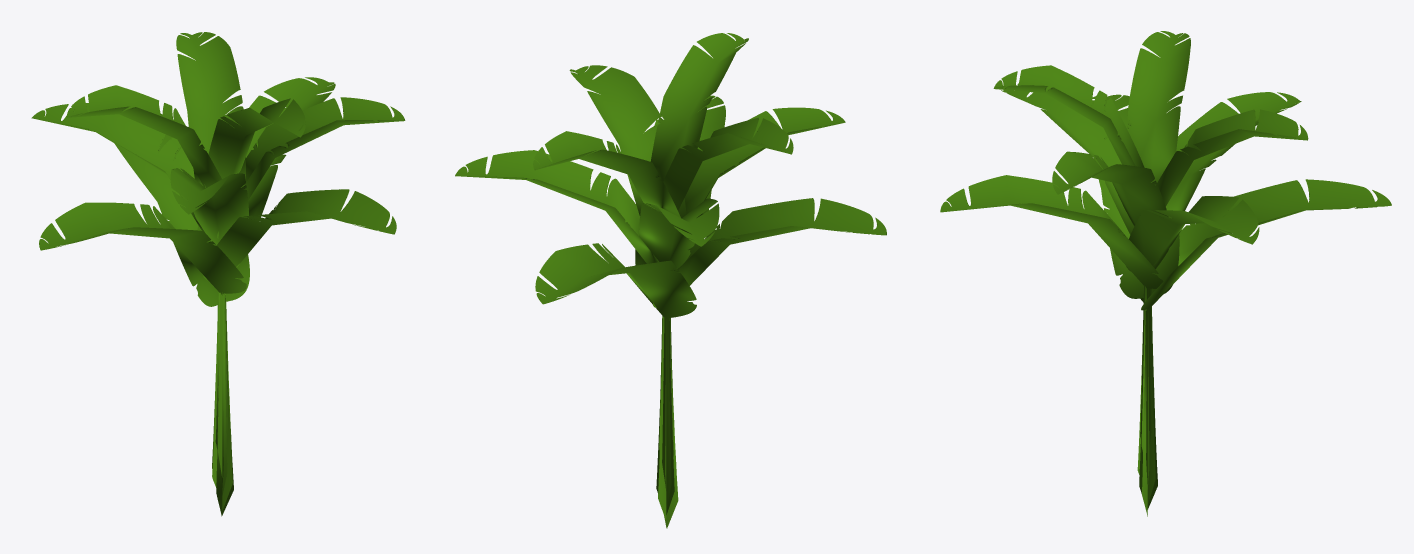
Rendered from foliage_5.gltf.
3 renders of one model, left to right at view 1: azimuth 30°, elevation 25°; view 2: azimuth 150°, elevation 25°; view 3: azimuth 270°, elevation 25°, orthographic.
Parts seen in each view (by area): view 1: 15; view 2: 15; view 3: 15.
Boxes of the visible parts, bbox=[...] form: 15: bbox=[31, 32, 405, 516]; 15: bbox=[455, 33, 886, 528]; 15: bbox=[940, 31, 1391, 516].
Bounding box in the file's own units: 0.282 × 0.323 × 0.3057.
1 material, 1 textured.
